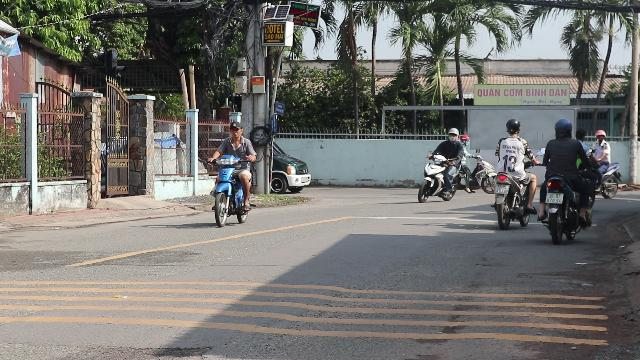helmet: (553, 117, 573, 137), (504, 118, 520, 136)
licenseplate: (546, 193, 562, 204), (495, 185, 509, 194)
motorcyclist: (537, 117, 595, 243), (490, 118, 538, 228), (208, 119, 256, 227)
nohelmet: (228, 121, 242, 138)
